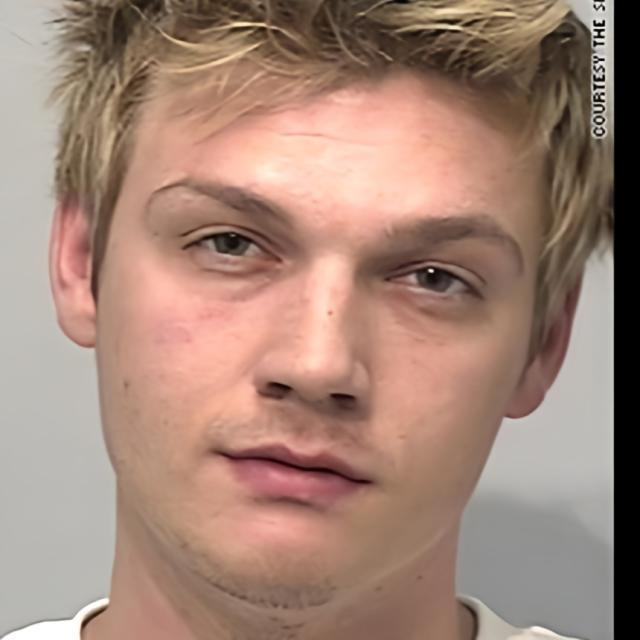neutral: (100, 19, 544, 610)
